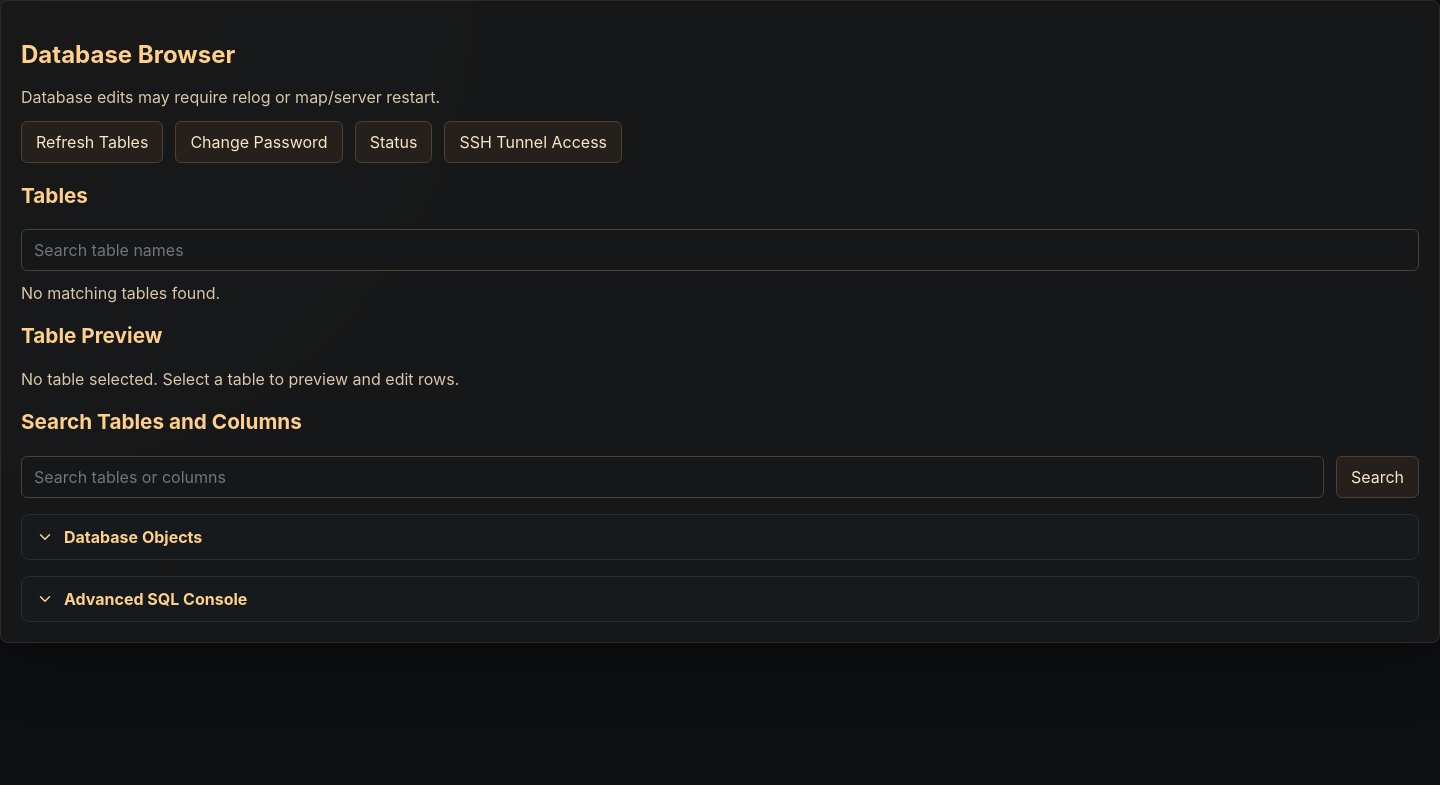
Test: DatabasePanel status visibility › loads tunnel details without opening the transient Status result
The width and height of the screenshot is (1440, 785).
Click the button "SSH Tunnel Access" at {"x": 533, "y": 142}, box [444,121,622,163]
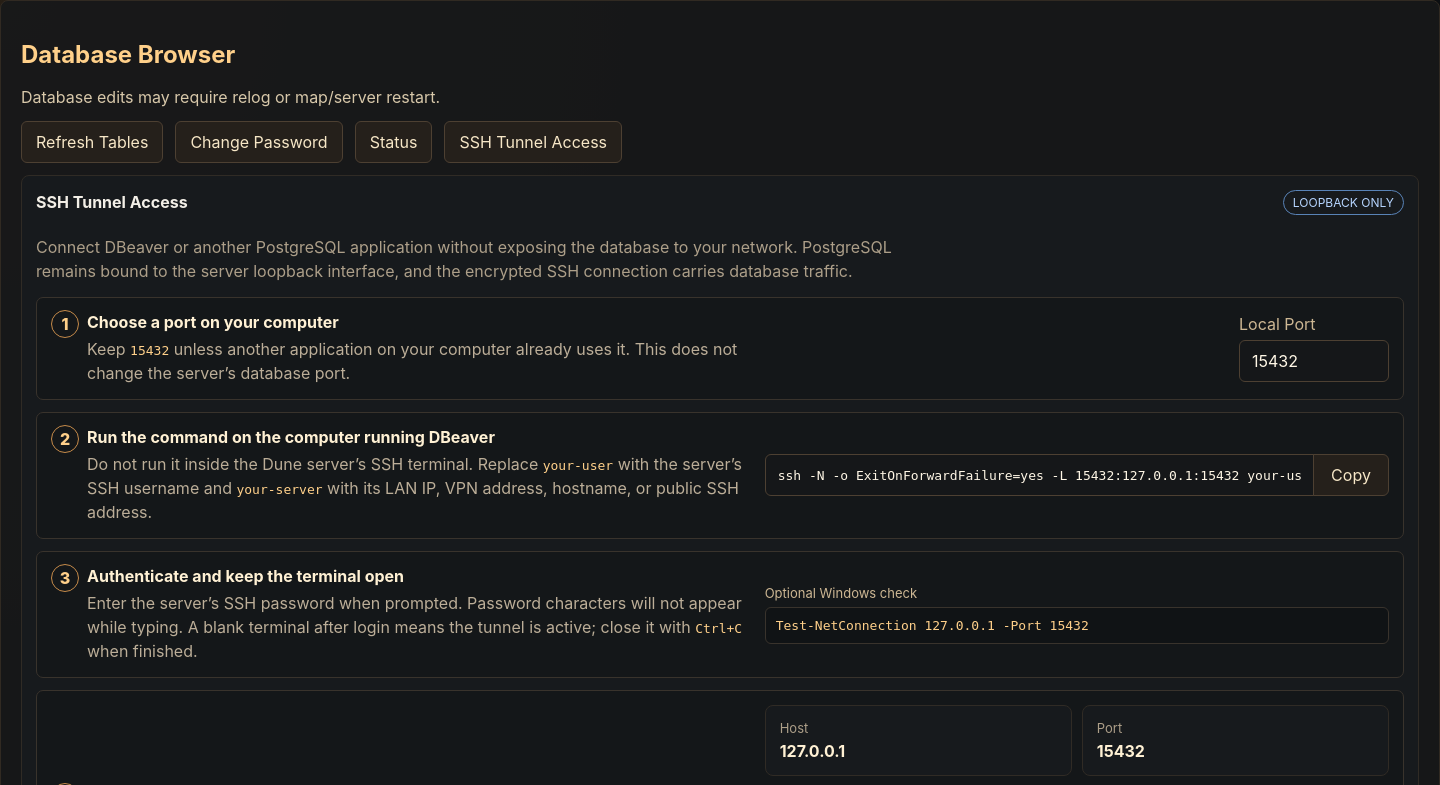
expect the text "Connect DBeaver or another PostgreSQL application" is shown: met, box [36,237,892,281]
expect the field showing "ssh -N -o ExitOnForwardFailure=yes" is shown: met, box [765,454,1314,496]
expect the text "Run the command on the computer running DBeaver" is shown: met, box [87,427,495,447]
Click the button "Status" at {"x": 394, "y": 142}, box [355,121,432,163]
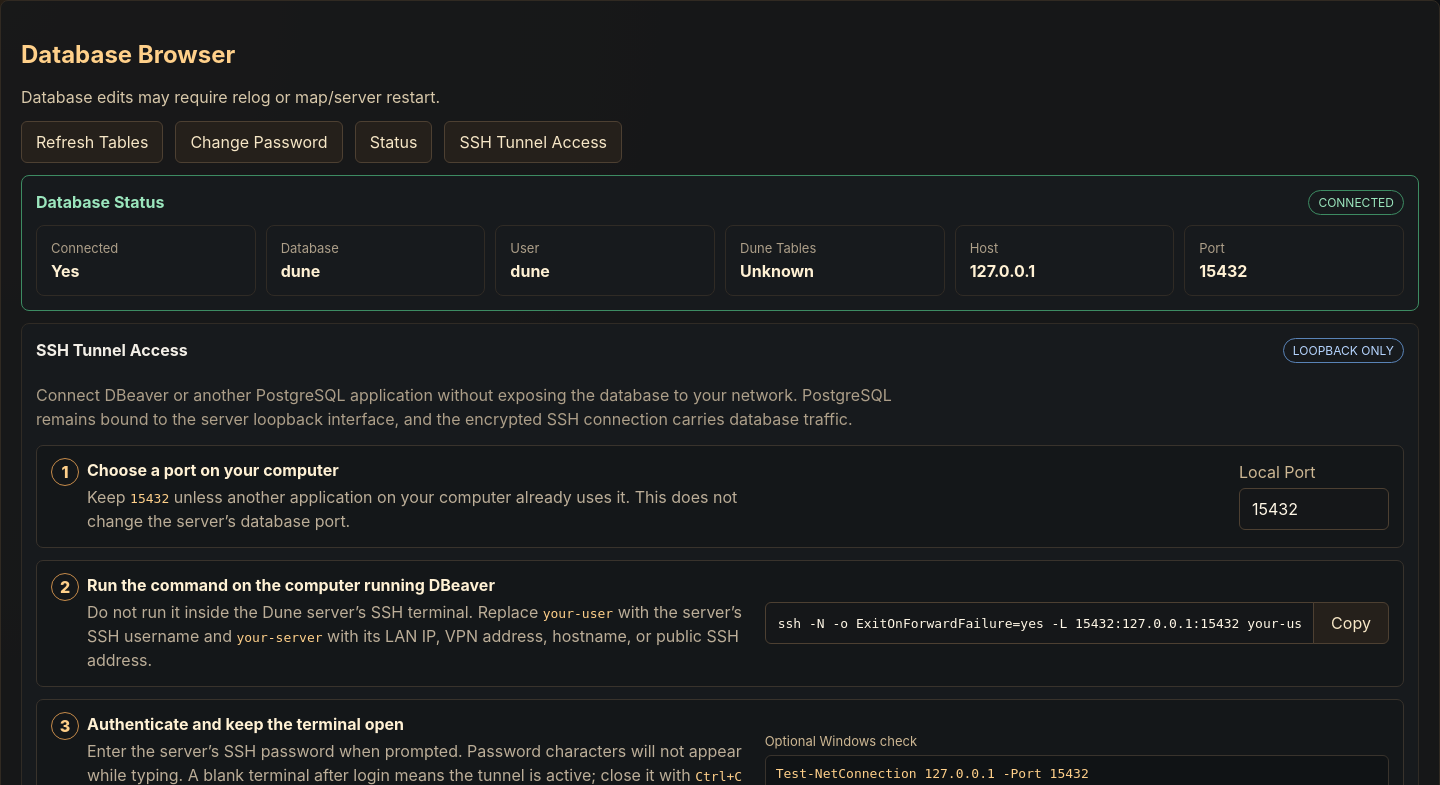
expect the text "Database Status" is shown: met, box [36,192,164,212]
